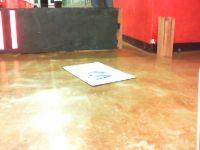switch: (9, 10, 18, 49), (1, 11, 5, 50)
